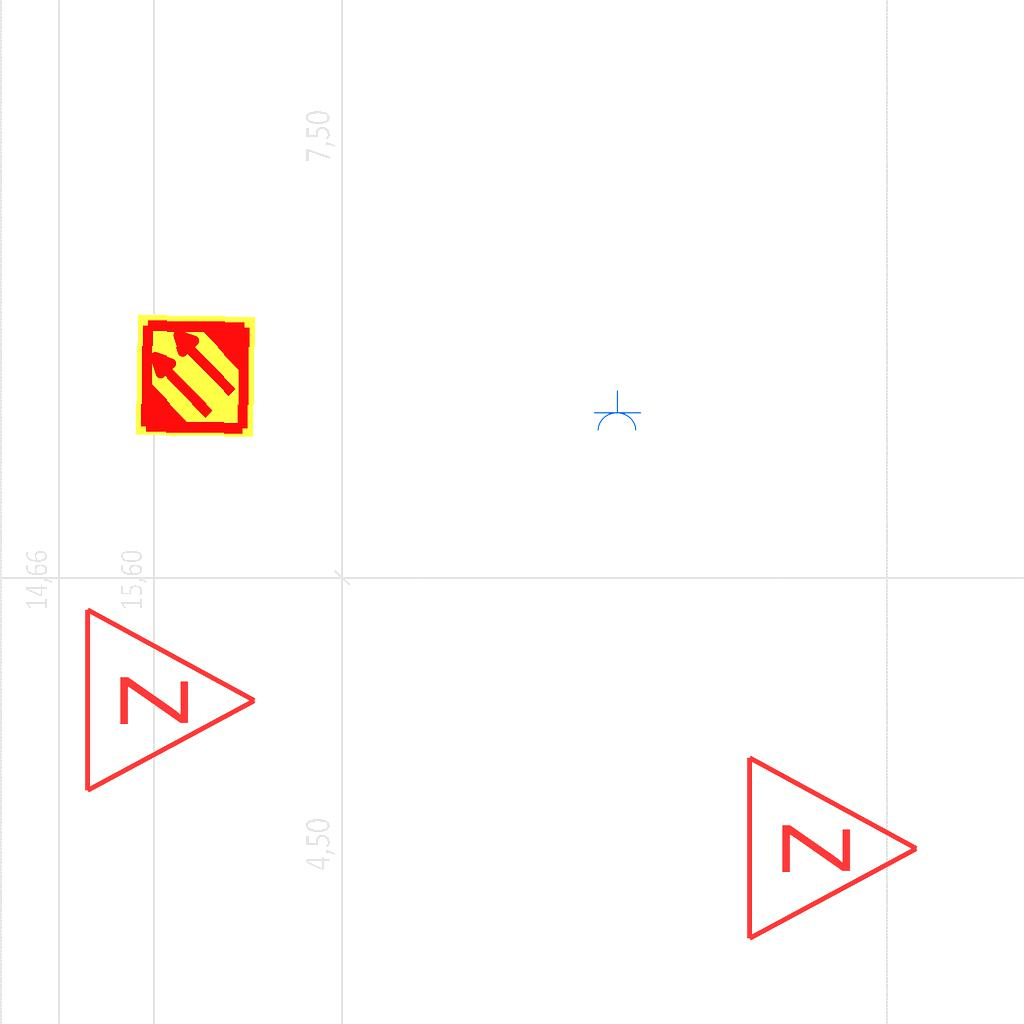ASR_Ansaugrauchmelder: (131, 311, 260, 440)
Schukosteckdose_einfach: (592, 390, 642, 433)
Zimmersignalleuchte: (732, 748, 932, 944), (70, 600, 270, 796)
